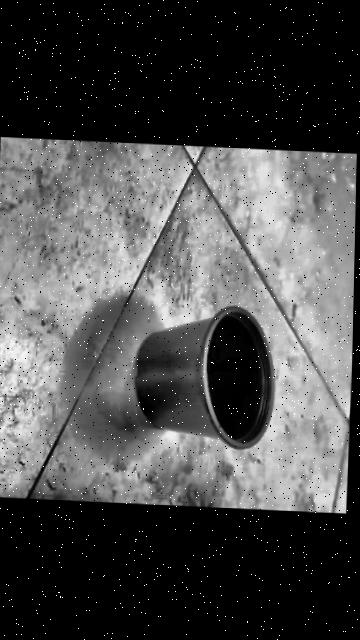pot: (133, 301, 276, 451)
